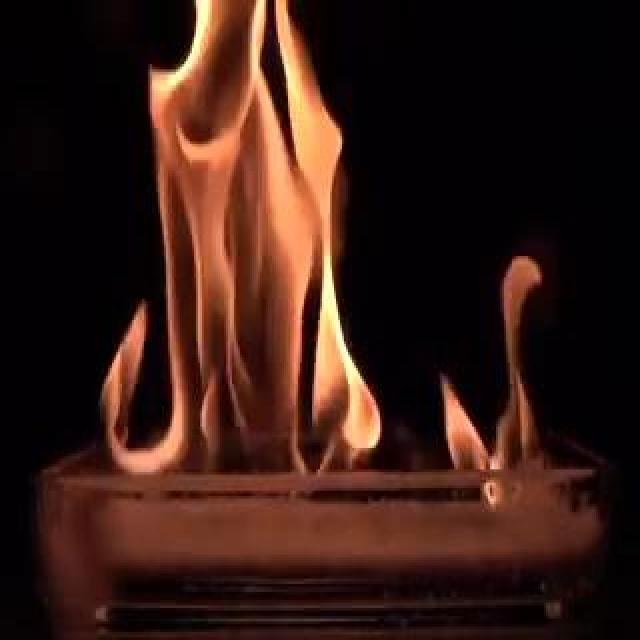Fire: (224, 3, 500, 480)
